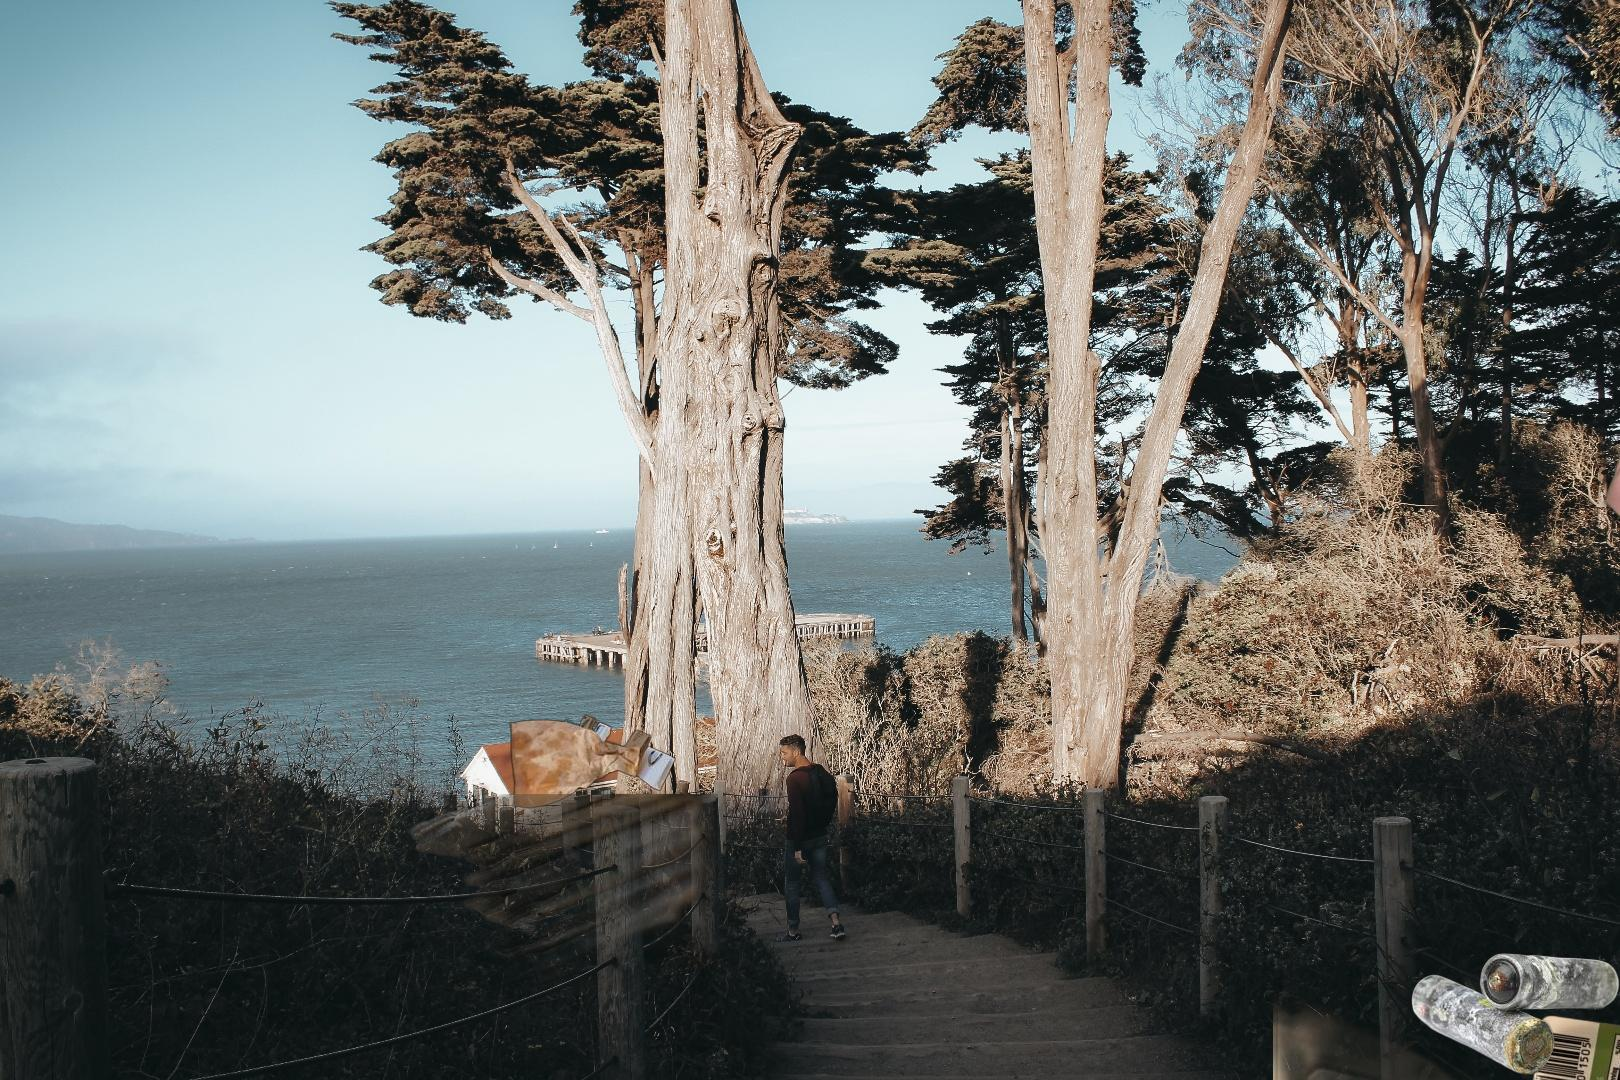battery: (1409, 951, 1620, 1078)
clothes: (1601, 224, 1620, 702)
paper-bag: (507, 712, 677, 809)
plastic-bottles: (1273, 845, 1620, 1080)
trashbox-cardboard: (329, 794, 718, 1074)
